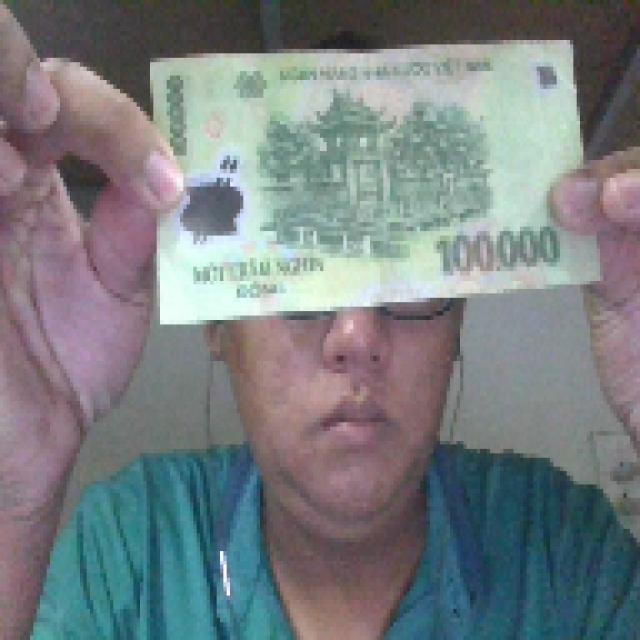100 000 VND: (144, 31, 604, 329)
